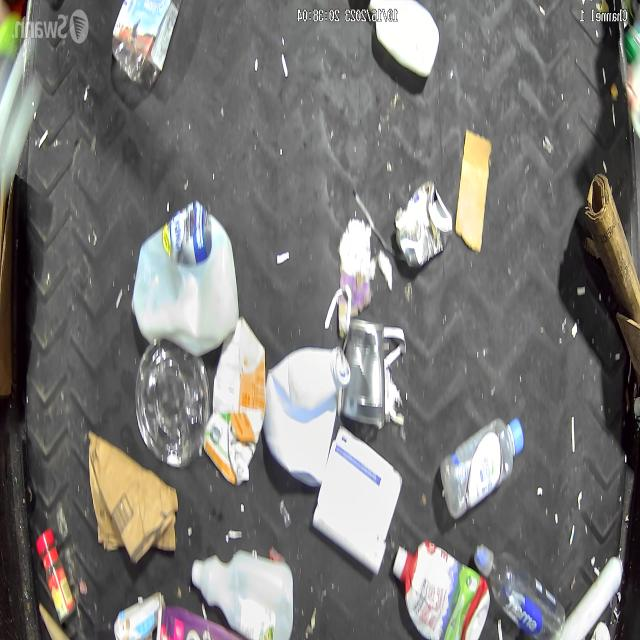can: (336, 317, 388, 433), (393, 174, 454, 270)
milk_jug: (131, 206, 240, 360), (260, 338, 353, 496)
plastic_bottle: (439, 408, 526, 515), (471, 541, 565, 640)
